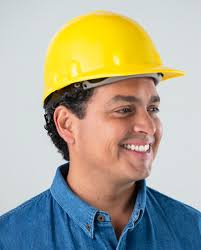Casco de seguridad: (42, 11, 183, 102)
